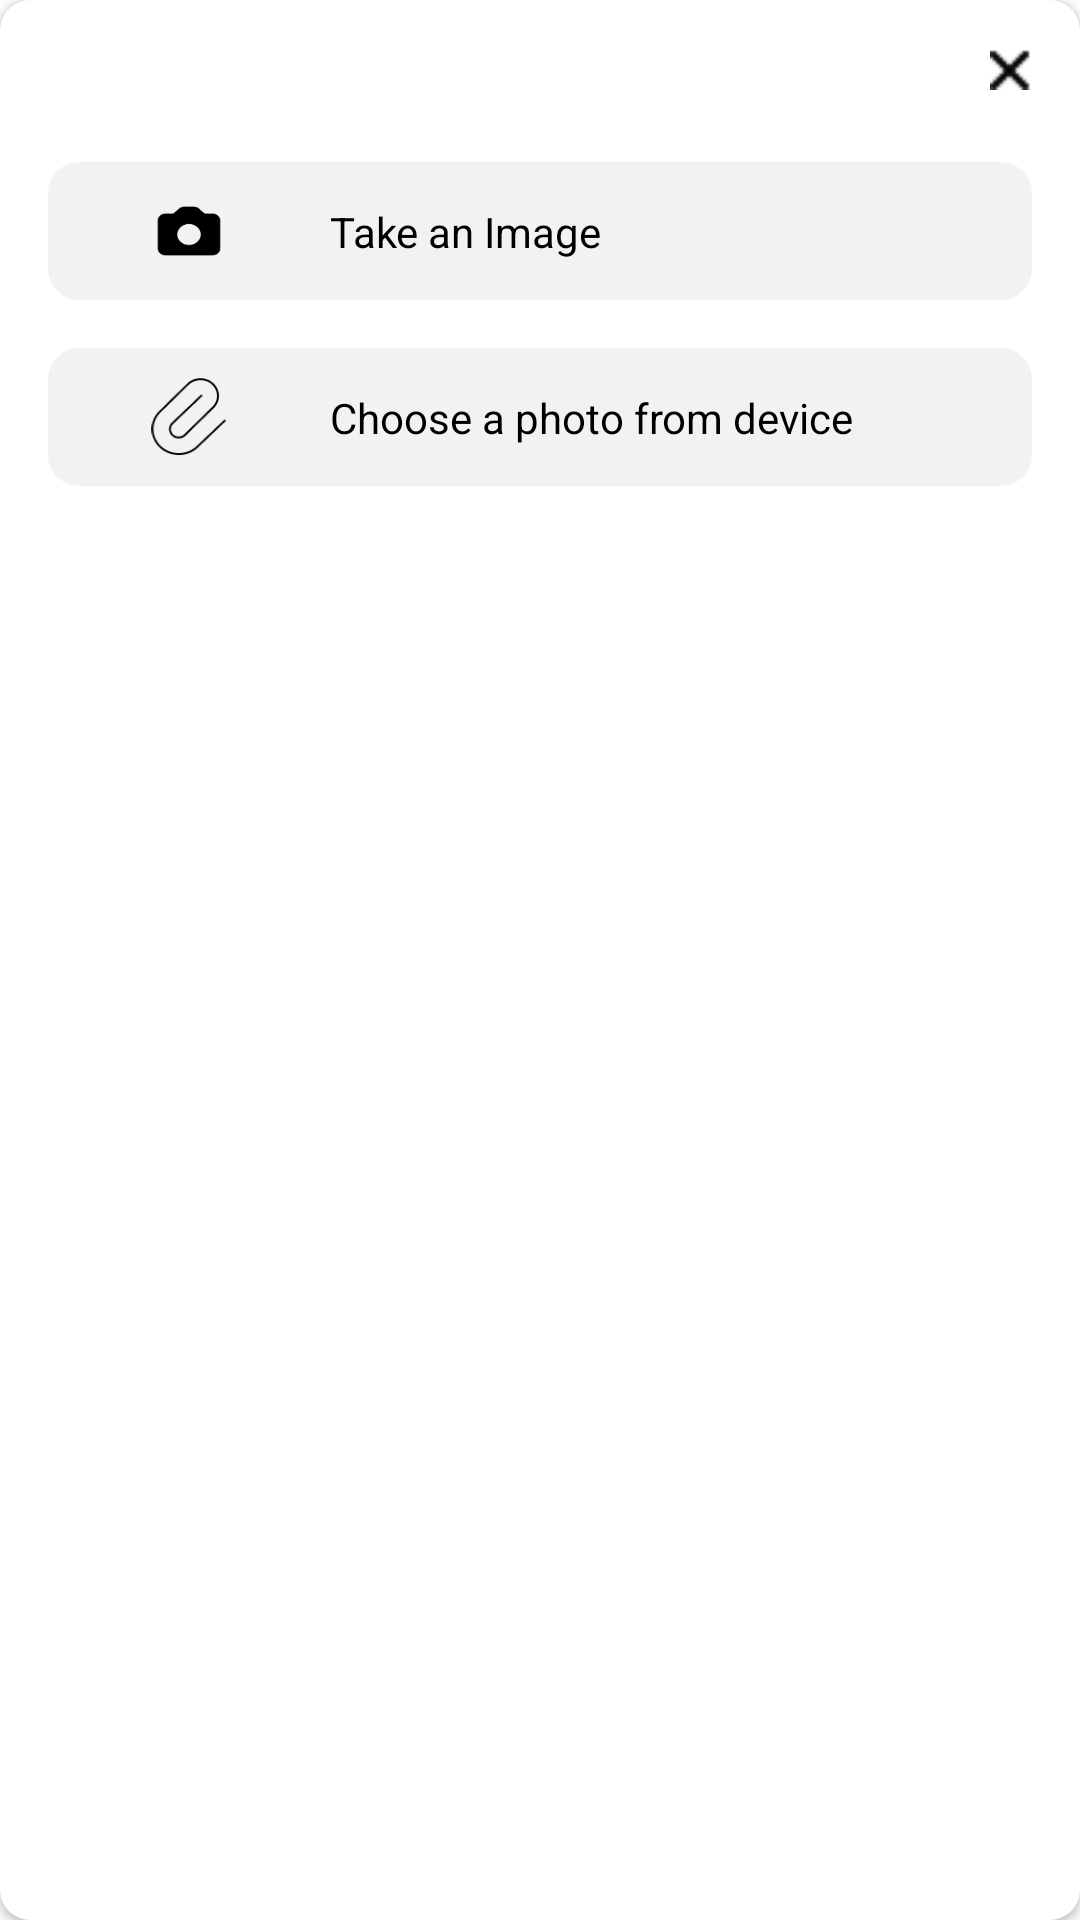

Where to tap for icons on this 1080px x 1920px app screen, as (x,y):
camera: (189,231)
cross: (1010,70)
file: (188,416)
